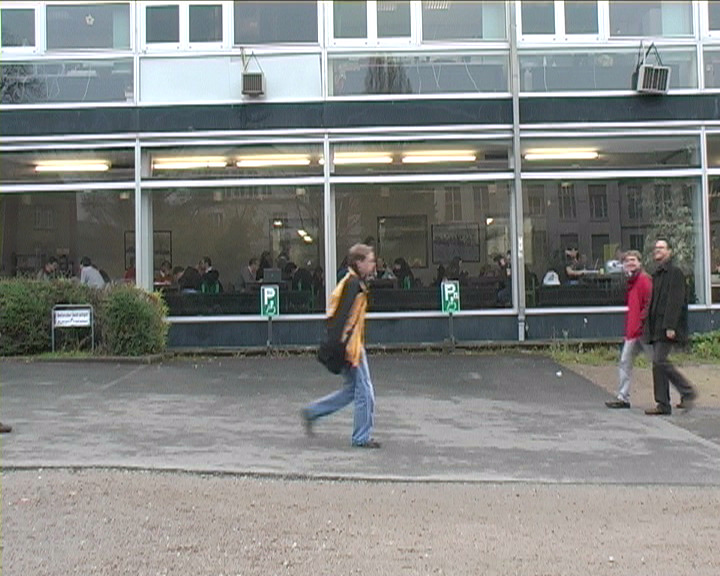deflection: (608, 242, 694, 310)
